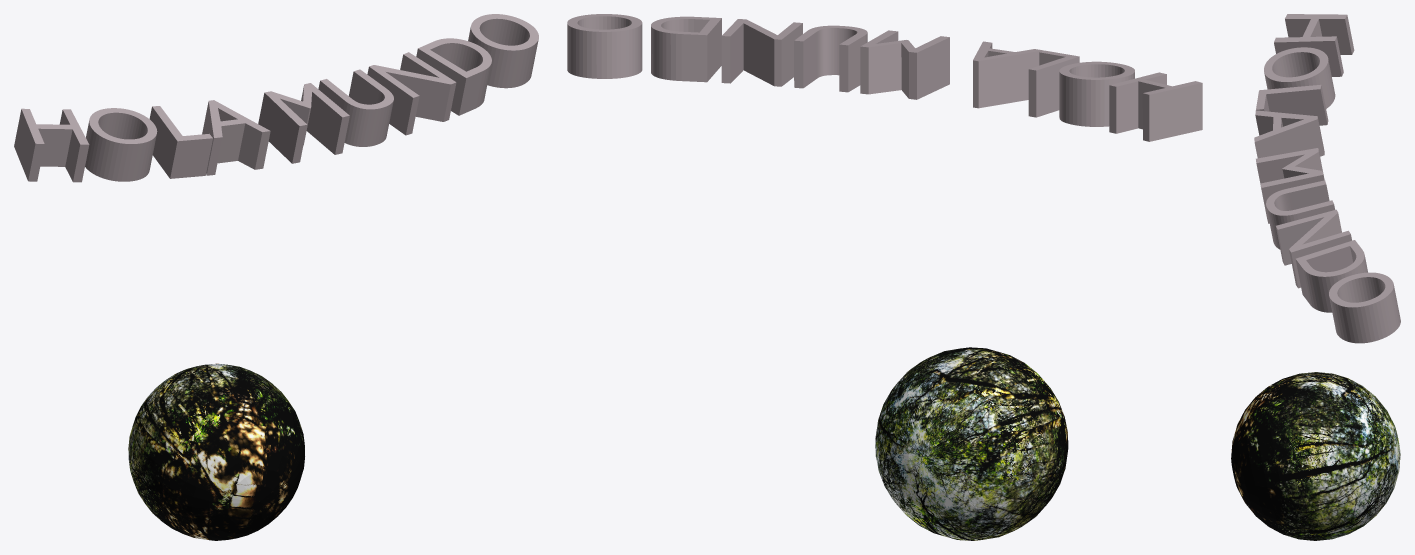
File: ahorasi4.dae
3 renders of one model, left to right at view 1: azimuth 30°, elevation 25°; view 2: azimuth 150°, elevation 25°; view 3: azimuth 270°, elevation 25°, orthographic. The views are drawn at different scales.
Visible parts, largest first — view 1: Text, Sphere; view 2: Text, Sphere; view 3: Text, Sphere.
Boxes of the visible parts, box(x1,y1,x2,y2) form: Text: box(14, 14, 538, 182); Sphere: box(128, 363, 304, 540); Text: box(567, 14, 1202, 141); Sphere: box(875, 347, 1068, 540); Text: box(1254, 14, 1400, 343); Sphere: box(1231, 372, 1400, 540).
Size of the model in its own units: 7.05 by 2 by 5.67.
2 materials, 1 textured.
